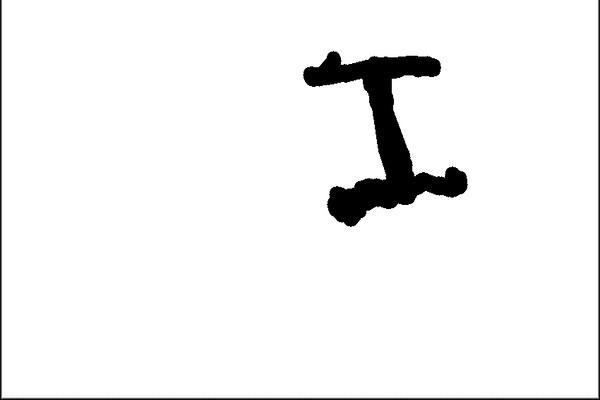i: (282, 43, 472, 224)
